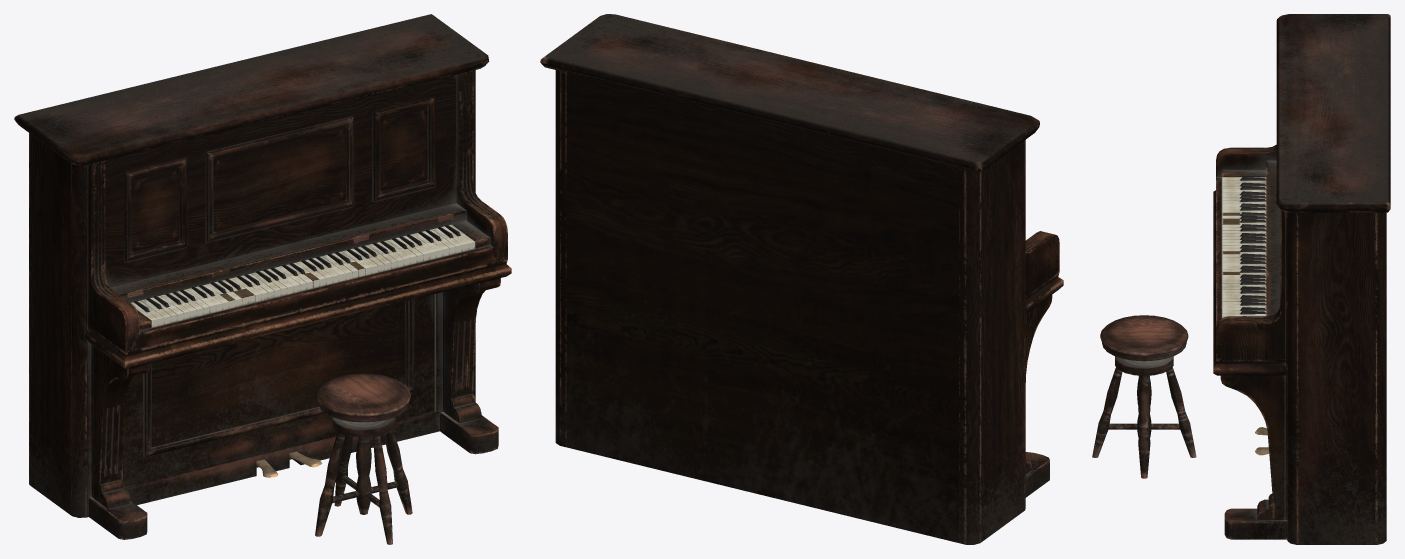
The model's file is realistic_wooden_piano_with_stool_-_hq_model.glb.
The picture shows the model from 3 angles, left to right: view 1: azimuth 30°, elevation 25°; view 2: azimuth 150°, elevation 25°; view 3: azimuth 270°, elevation 25°; orthographic projection. The views are drawn at different scales.
Parts seen in each view (by area): view 1: Piano_LOD0, PianoStool_LOD0; view 2: Piano_LOD0; view 3: Piano_LOD0, PianoStool_LOD0.
Boxes of the visible parts, box(x1,y1,x2,y2) form: Piano_LOD0: box(14, 14, 511, 539); PianoStool_LOD0: box(315, 373, 412, 544); Piano_LOD0: box(540, 14, 1063, 544); Piano_LOD0: box(1213, 14, 1390, 544); PianoStool_LOD0: box(1092, 315, 1196, 478).
Size of the model in its own units: 1.65 by 1.38 by 1.08.
1 material, 1 textured.
